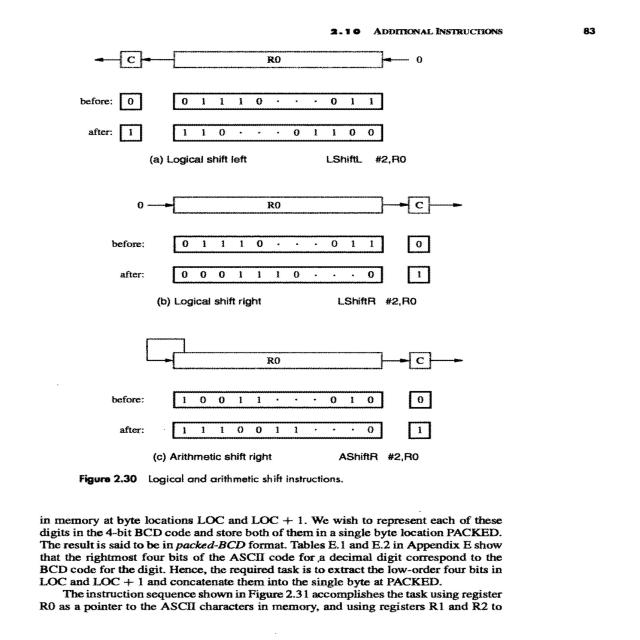diagram: (0, 40, 493, 499)
